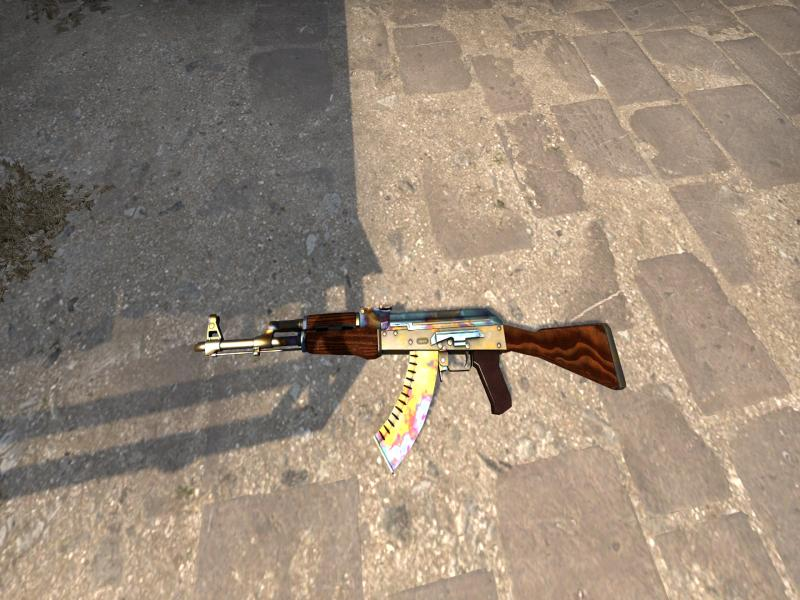AK47: (194, 307, 626, 471)
